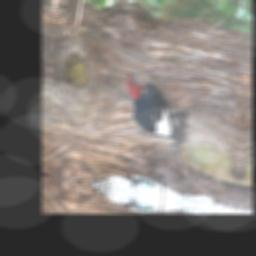Woodpecker: (120, 64, 193, 153)
